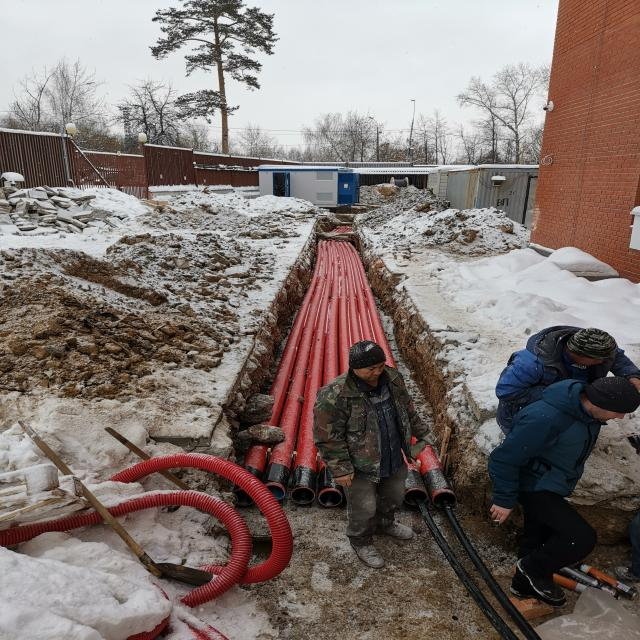NoHelmet: (578, 377, 640, 426), (565, 327, 621, 370), (349, 342, 390, 384)
